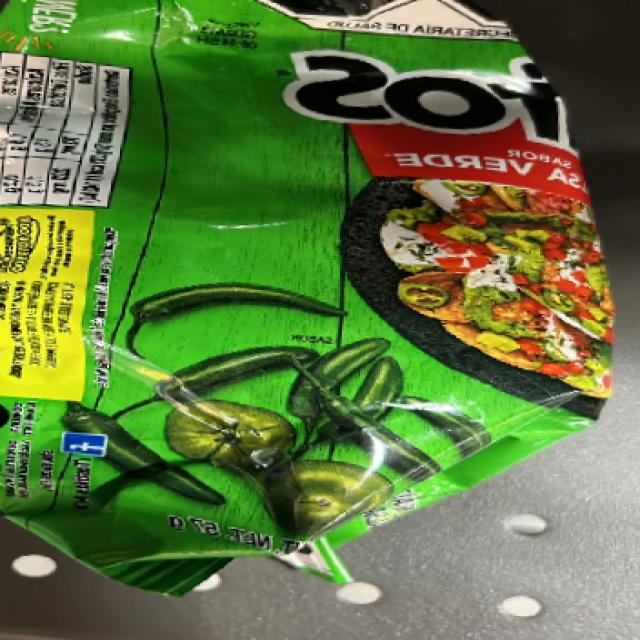tostitos: (11, 0, 613, 460)
